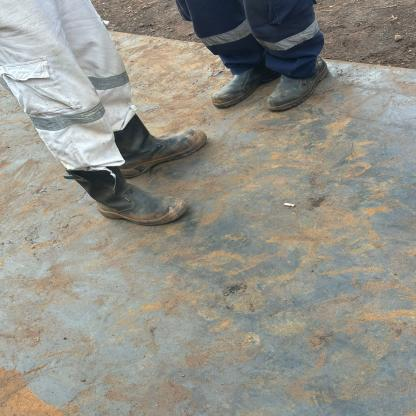bota: (61, 167, 190, 228), (104, 111, 211, 177), (258, 56, 339, 112), (209, 61, 276, 109)
